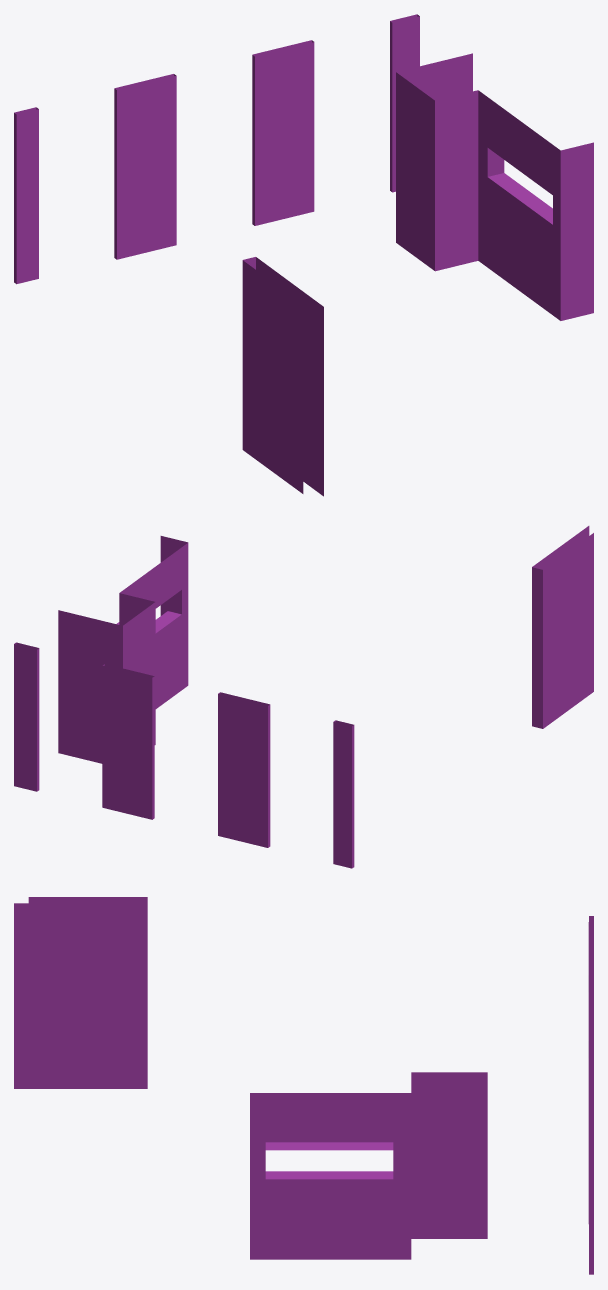
File: painted_wall.fbx
The picture shows the model from 3 angles, top to bottom: view 1: azimuth 30°, elevation 25°; view 2: azimuth 150°, elevation 25°; view 3: azimuth 270°, elevation 25°; orthographic projection. The views are drawn at different scales.
Visible parts, largest first — view 1: cafeteria; view 2: cafeteria; view 3: cafeteria.
Part boxes in pixels (x1=…): cafeteria: x1=14, y1=14, x2=593, y2=496; cafeteria: x1=14, y1=526, x2=593, y2=868; cafeteria: x1=14, y1=897, x2=593, y2=1274.
Bounding box in the file's own units: 646 × 290 × 820.
